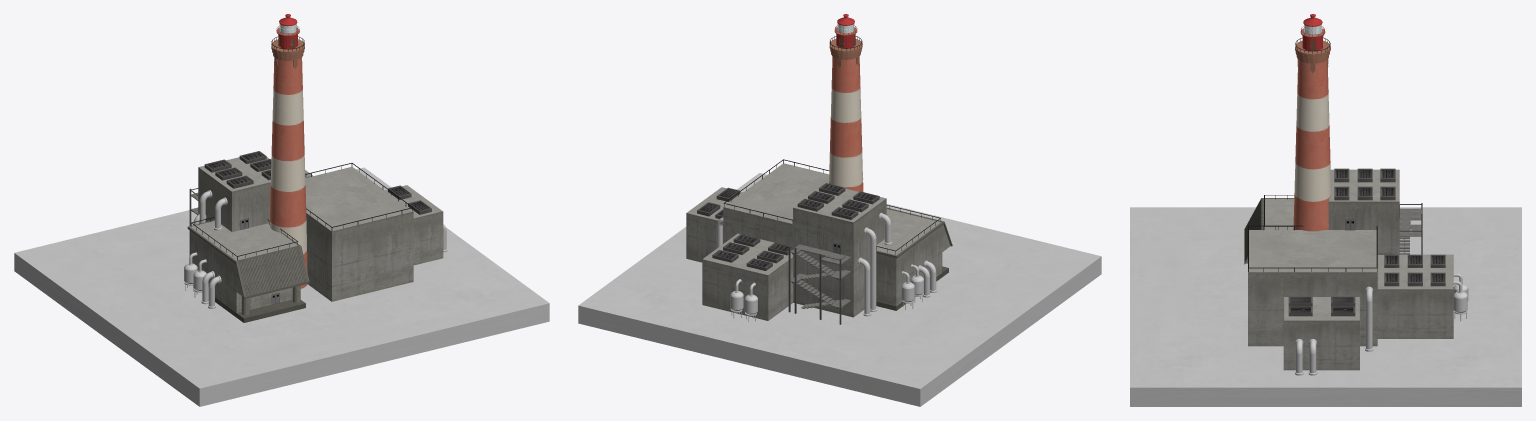
Rendered from LighthouseComplexDoorUnmergedTALL.fbx.
The picture shows the model from 3 angles, left to right: view 1: azimuth 30°, elevation 25°; view 2: azimuth 150°, elevation 25°; view 3: azimuth 270°, elevation 25°; orthographic projection. The views are drawn at different scales.
Visible parts, largest first — view 1: polySurface282; view 2: polySurface282; view 3: polySurface282.
Part boxes in pixels (x1,y1,x2,y2): polySurface282: (14,14,549,406); polySurface282: (578,14,1101,406); polySurface282: (1130,14,1521,406).
Bounding box in the file's own units: 1467 × 1147 × 1347.
